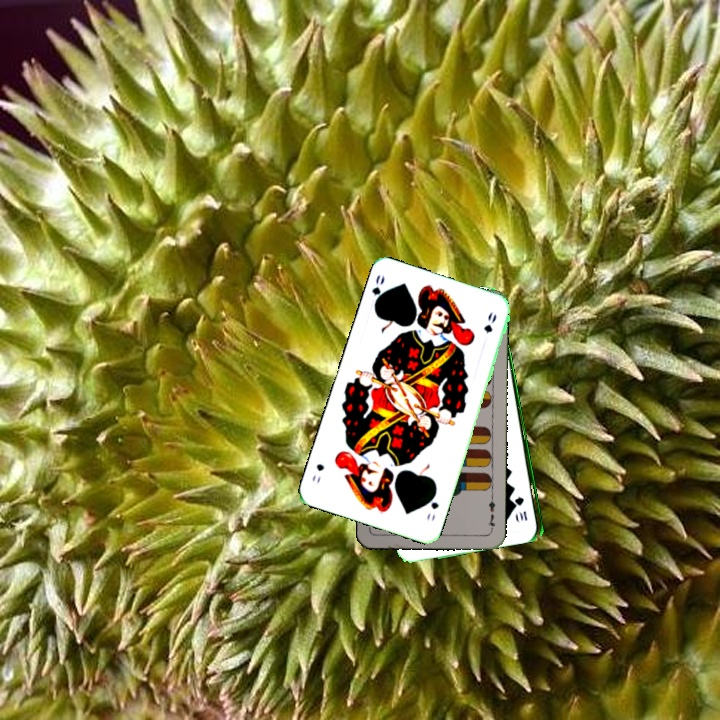E7: (484, 493, 498, 533)
G10: (513, 493, 530, 523)
GO: (368, 271, 388, 311), (423, 487, 441, 523)
